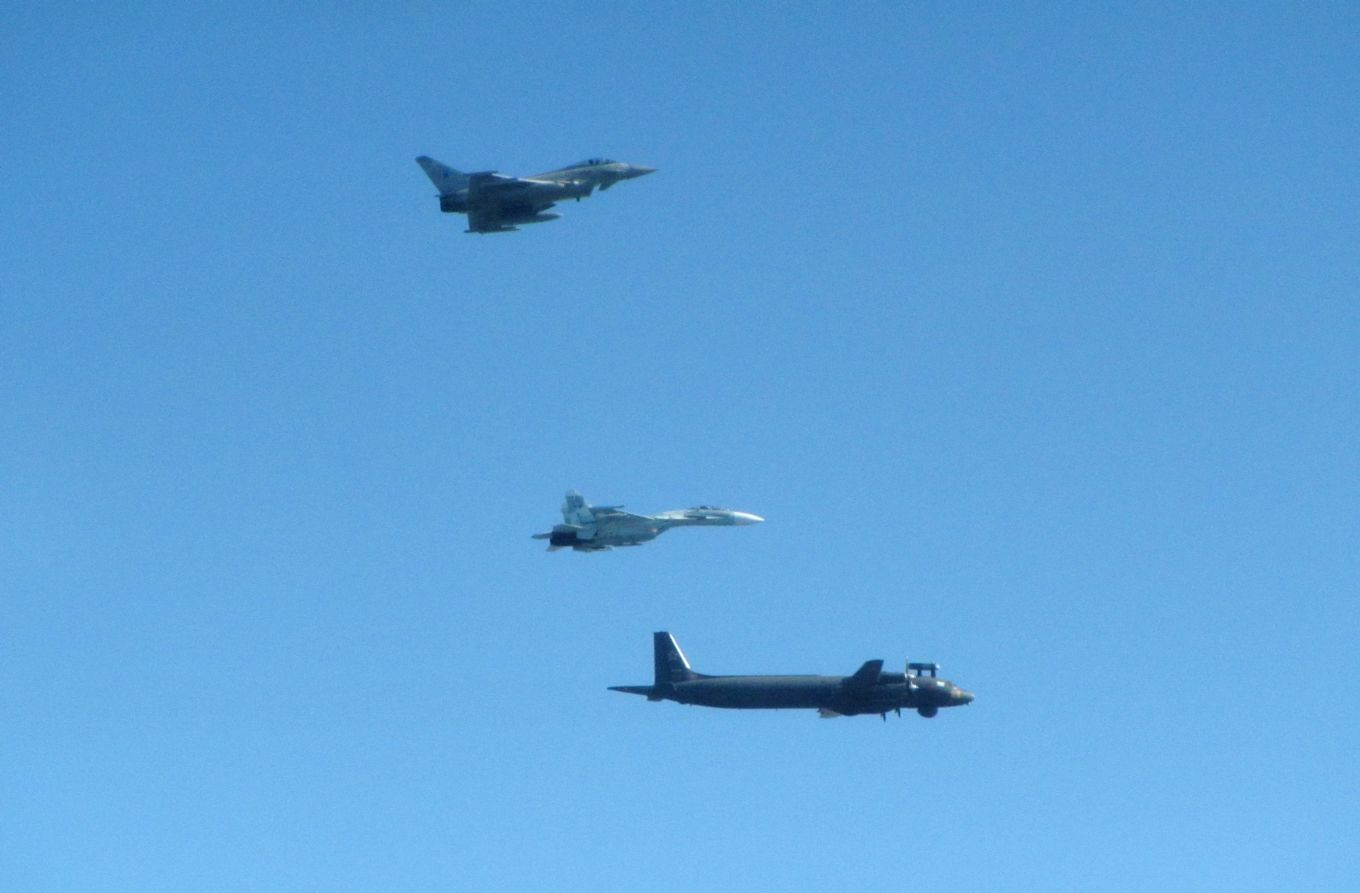plane: (605, 629, 976, 722), (413, 154, 651, 231), (530, 488, 762, 554)
